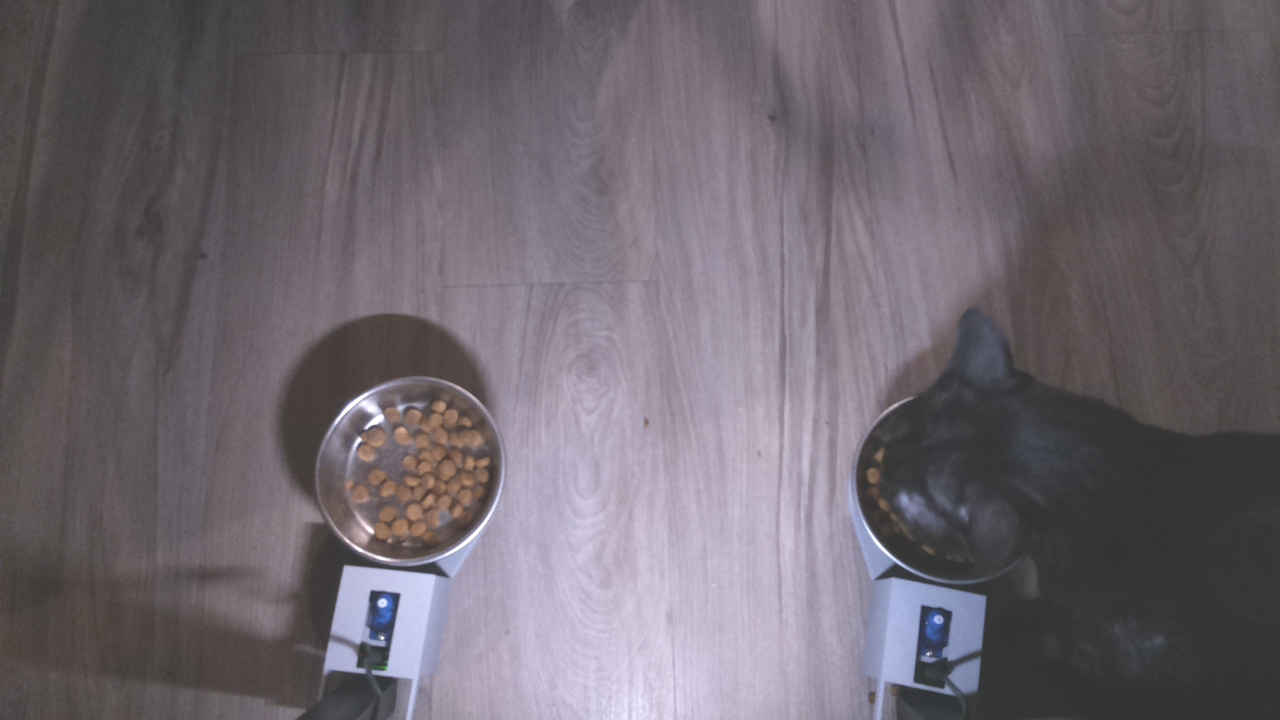open_bowl: (315, 375, 505, 573)
saki_eating: (847, 300, 1100, 593)
